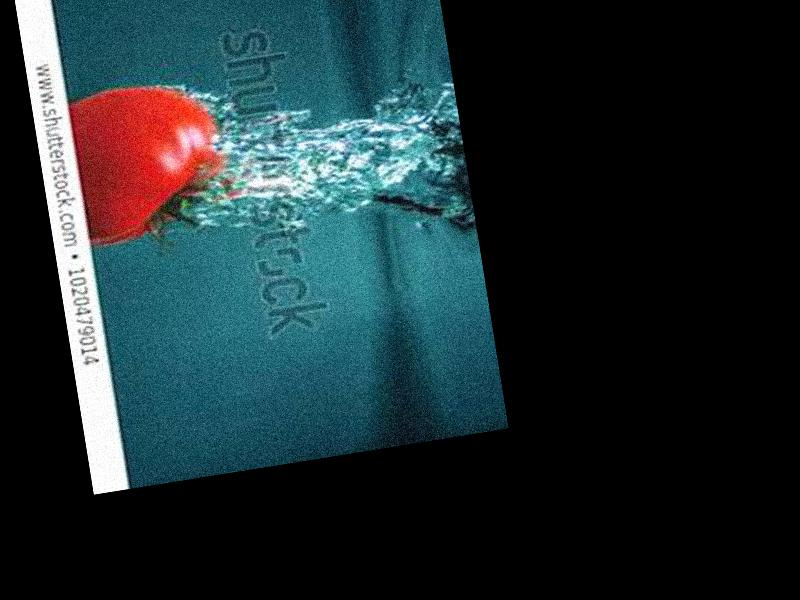Tomato: (66, 75, 233, 248)
